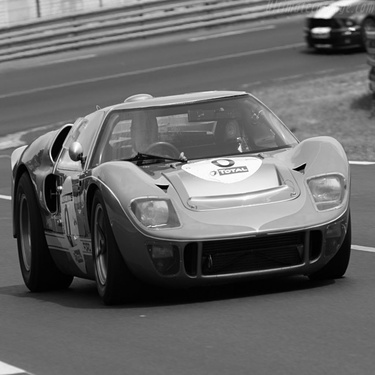car: (2, 87, 363, 310), (298, 2, 369, 55), (360, 15, 372, 59), (364, 62, 373, 107)
